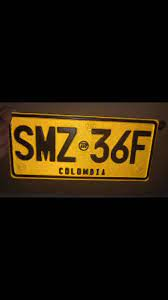placa_moto: (11, 111, 161, 185)
